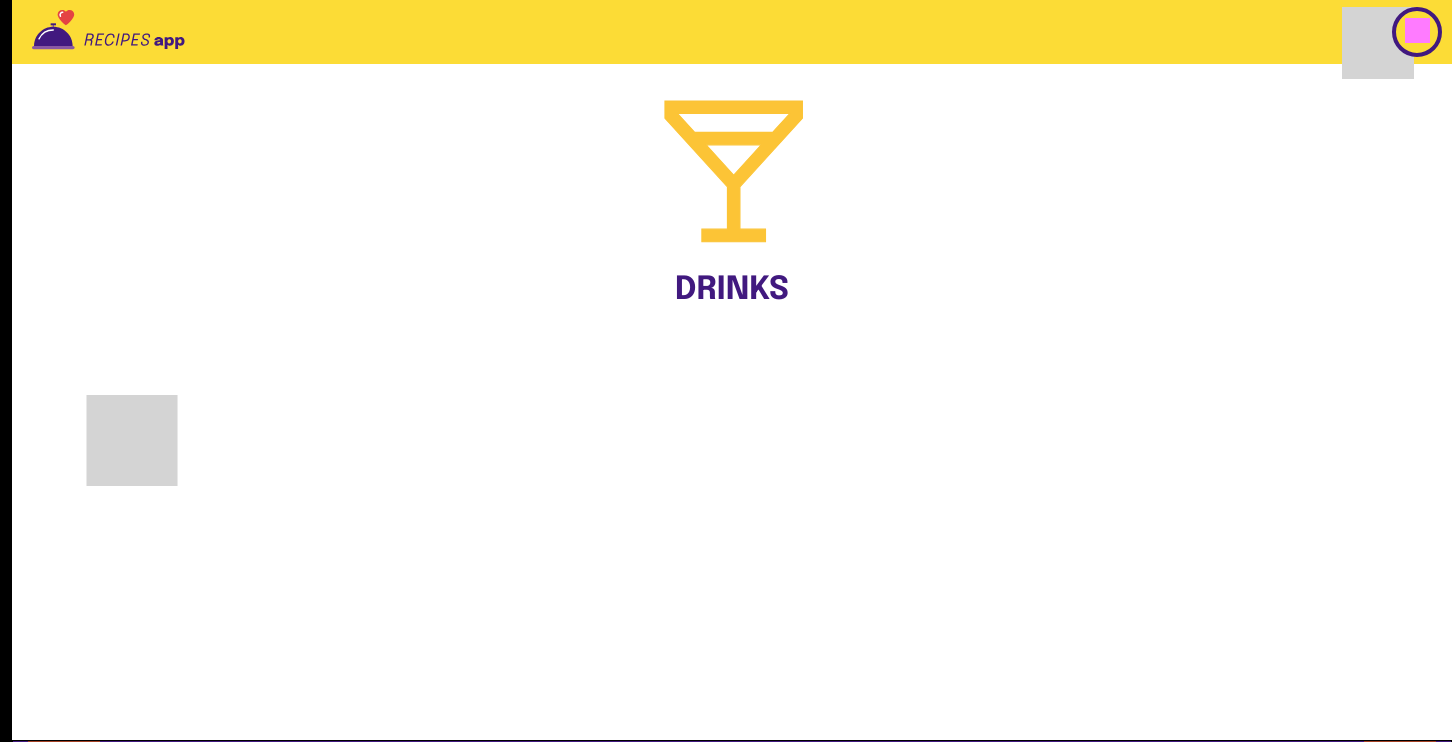
Test: Testa o componente Header › testa se ao clickar no botão de procurar o input da barra de busca aparece
Click the button with test id "search-top-btn" at (1367, 32), box [1342,7,1392,57]
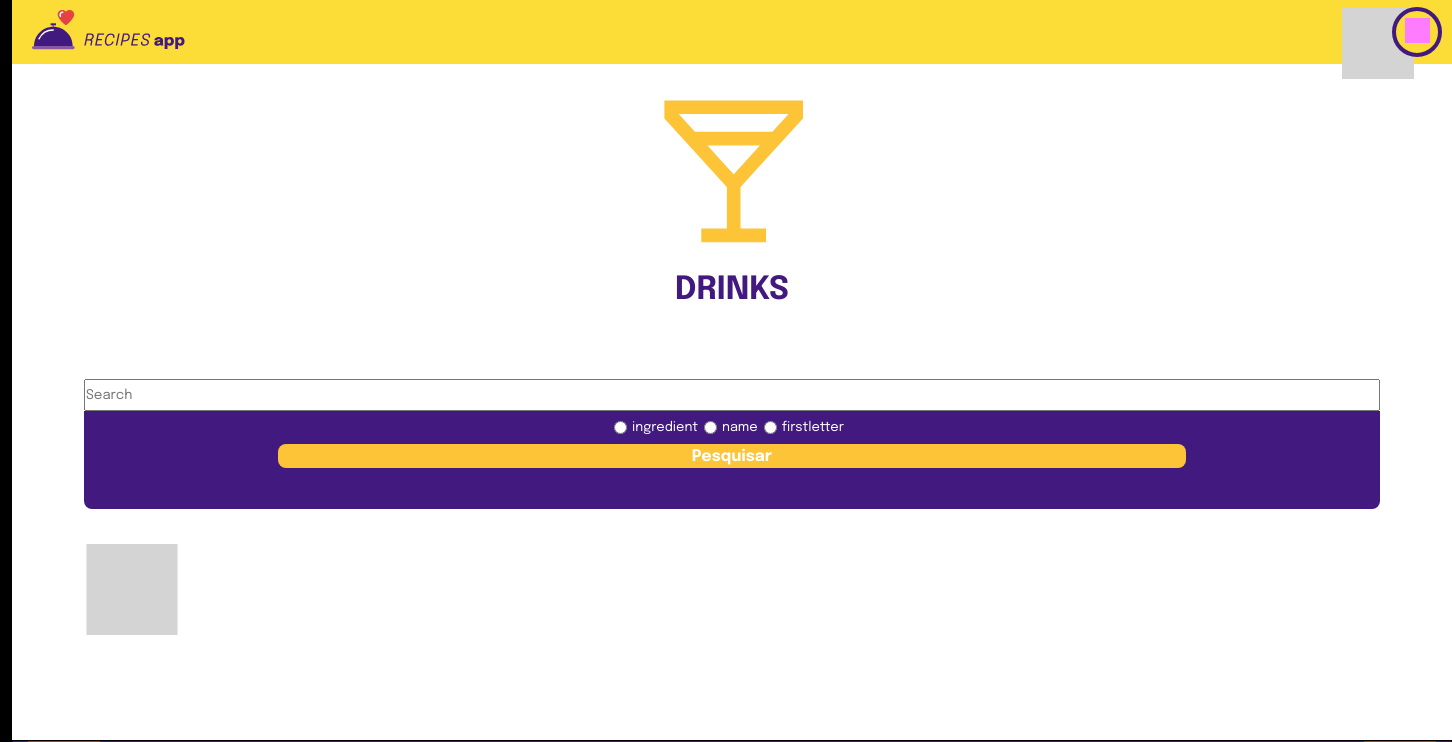
Expected: the field with test id "search-input" is shown, [84,379,1380,411]
